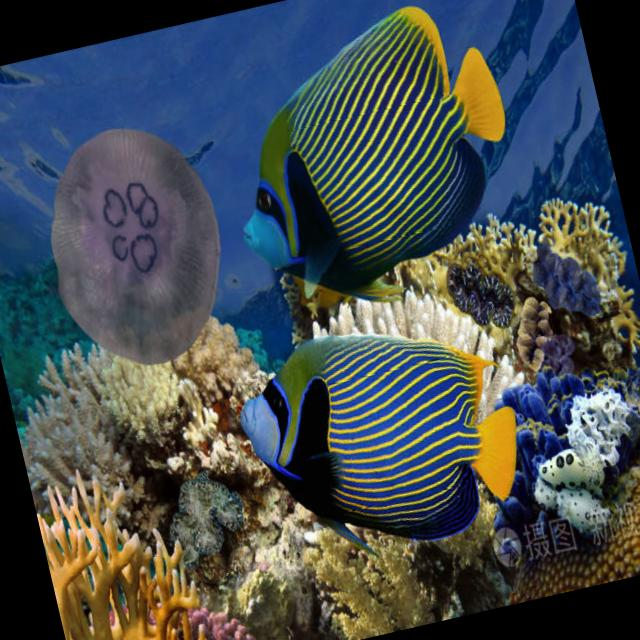AngelFish: (202, 0, 540, 331), (223, 297, 538, 577)
